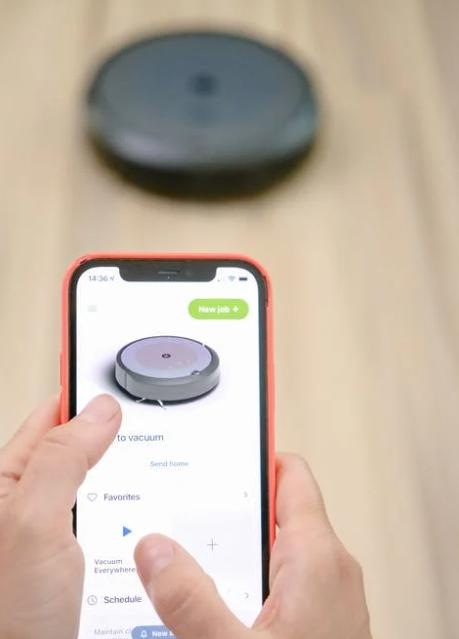mobile: (60, 252, 276, 639)
